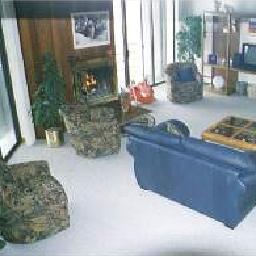Matera: (30, 58, 64, 149)
